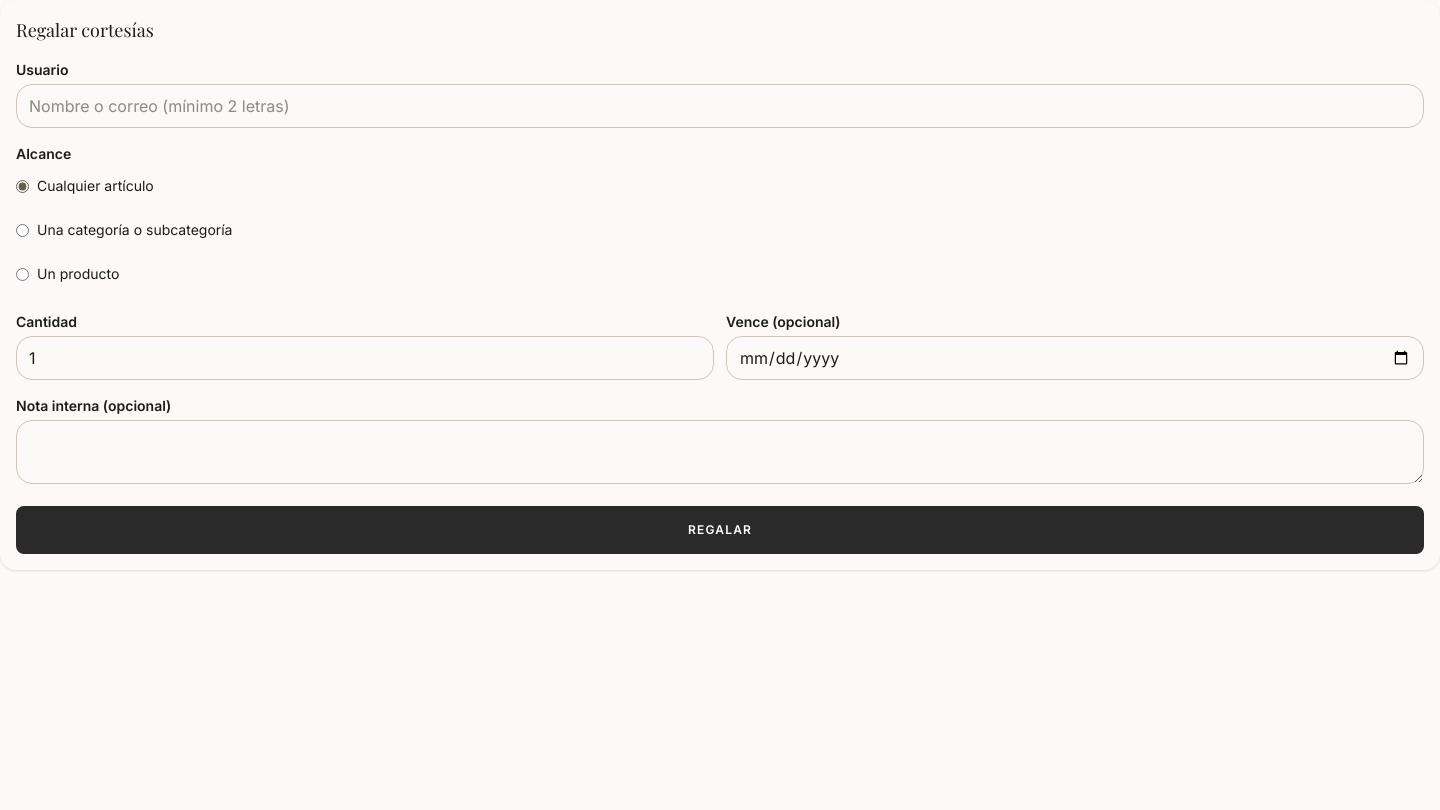
Test case: GrantCourtesyForm › cantidad 1–50 y vencimiento no pasado
The image size is (1440, 810).
Type "an" into the field named "Buscar usuario por nombre o correo".
click(720, 106); type("an")  # box x1=16 y1=84 x2=1424 y2=128
Wait 300 ms
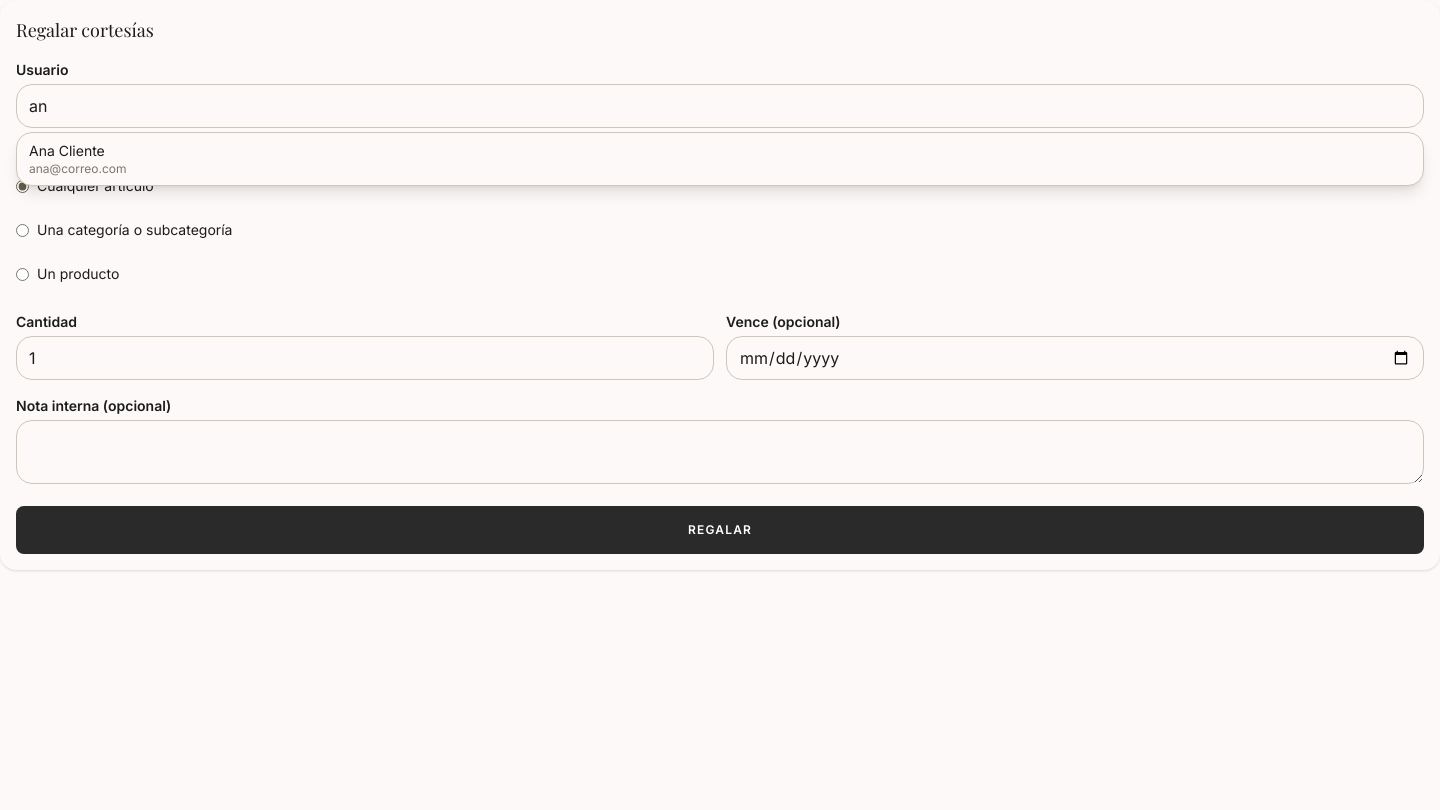
Check: the option shows "Ana Cliente"
Check: the option shows "ana@correo.com"
Click the option "Ana Cliente ana@correo.com".
click(67, 150)  # box x1=17 y1=133 x2=1423 y2=185
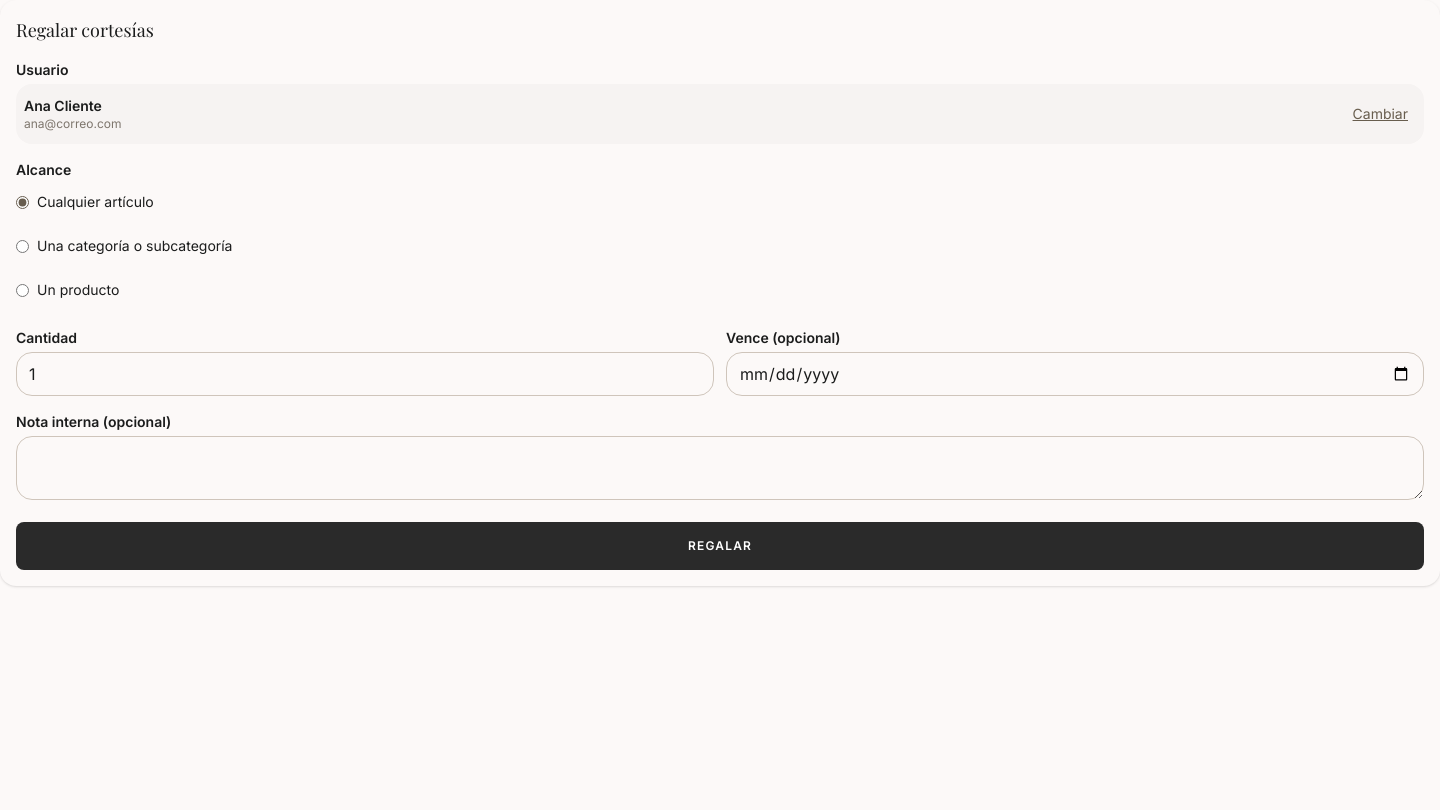
Replace the text in the number field labelled "Cantidad" with "51" at (365, 374), box x1=16 y1=352 x2=714 y2=396
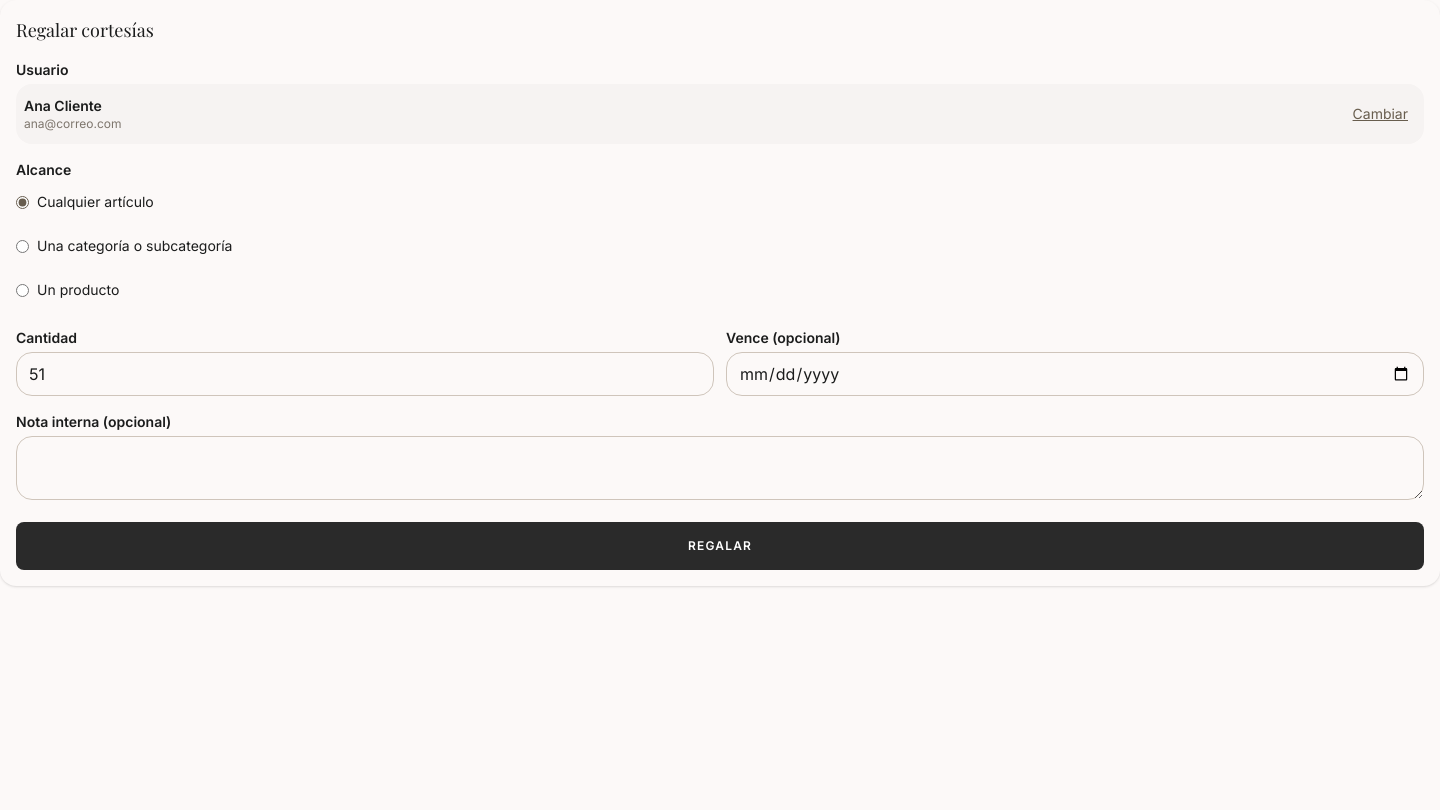
Type "2026-10-14" into the date field labelled "Vence (opcional)".
click(1075, 374); type("2026-10-14")  # box x1=726 y1=352 x2=1424 y2=396
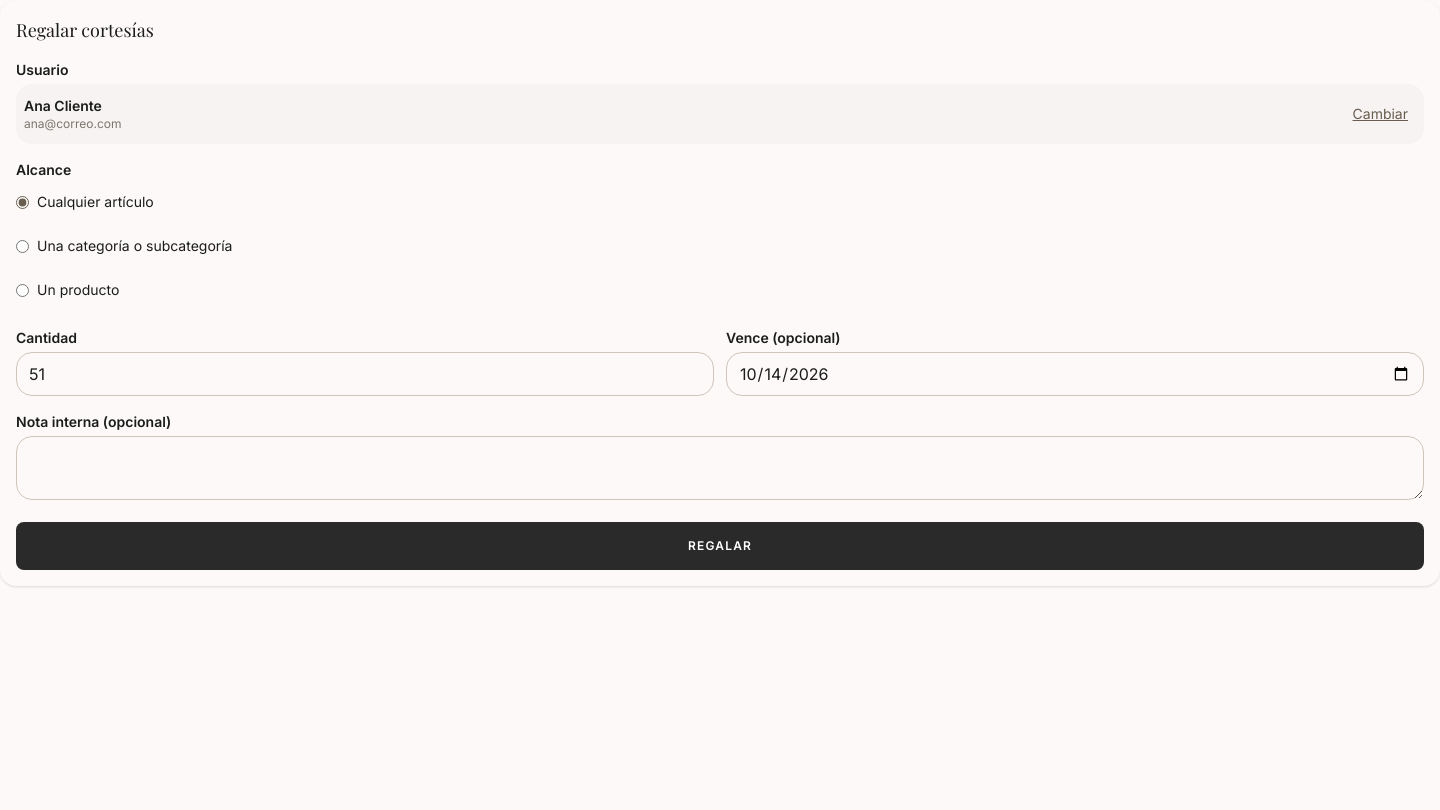
Click the button "Regalar".
click(720, 546)  # box x1=16 y1=522 x2=1424 y2=570
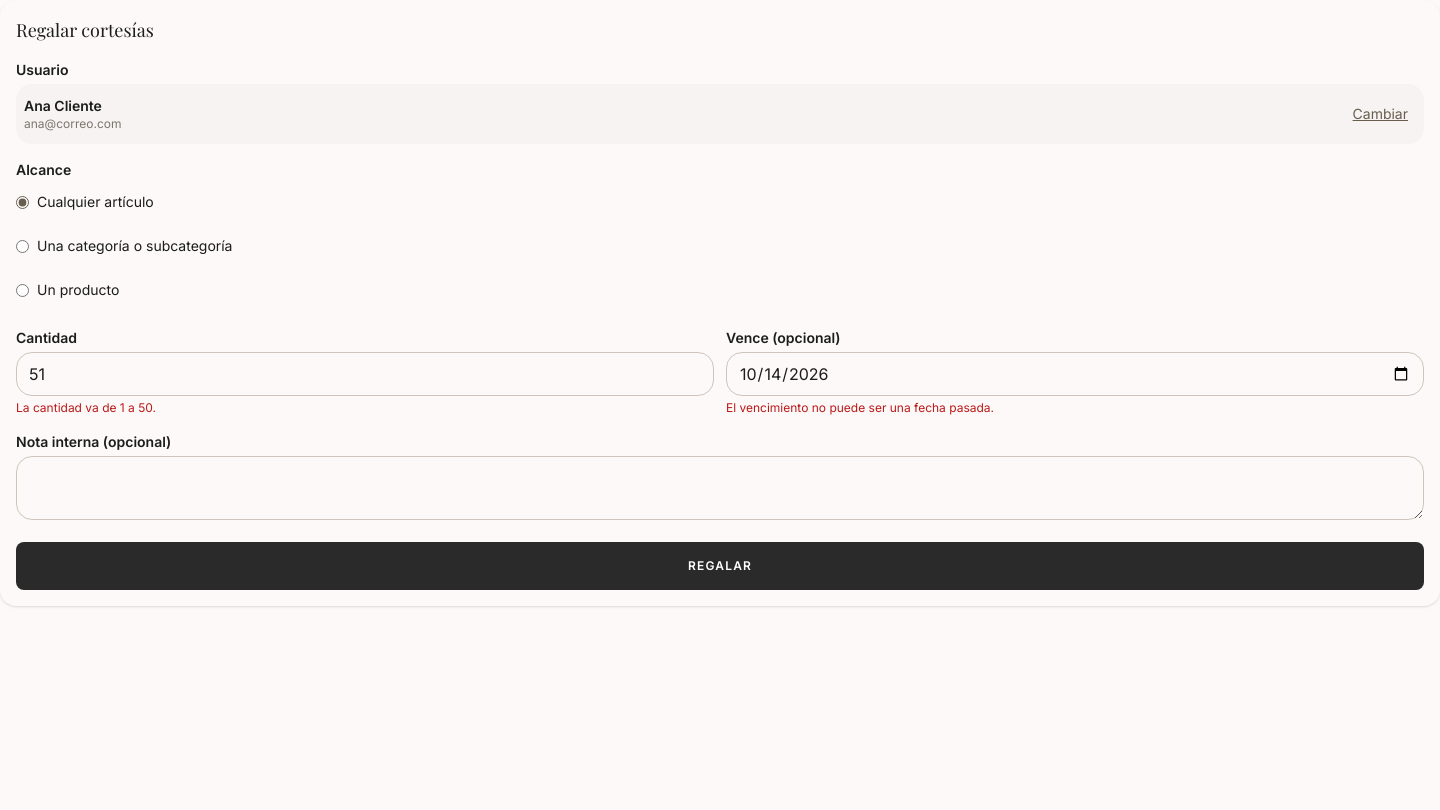
Check: the text "La cantidad va de 1 a 50." is shown, box x1=16 y1=400 x2=156 y2=415
Check: the text "El vencimiento no puede ser una fecha pasada." is shown, box x1=726 y1=400 x2=994 y2=415
